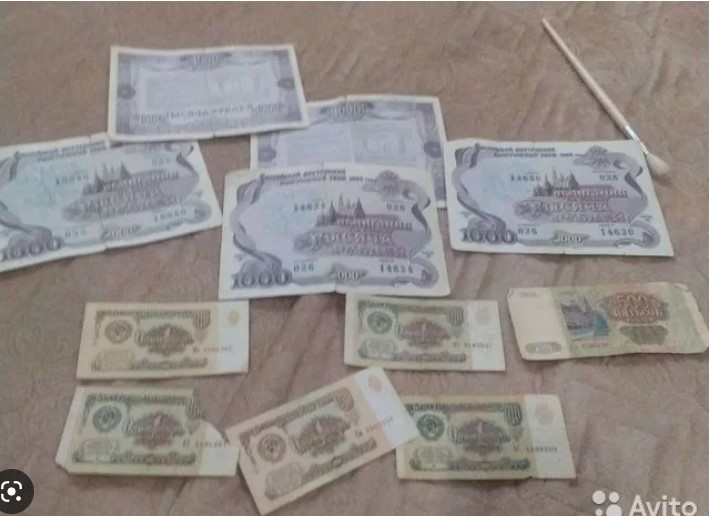cash: (218, 164, 450, 298), (1, 134, 223, 271), (227, 365, 419, 516), (446, 138, 673, 256), (107, 45, 307, 143), (55, 387, 239, 475), (506, 282, 708, 360), (395, 394, 575, 480), (250, 95, 447, 172), (76, 303, 250, 379), (343, 292, 506, 372)
